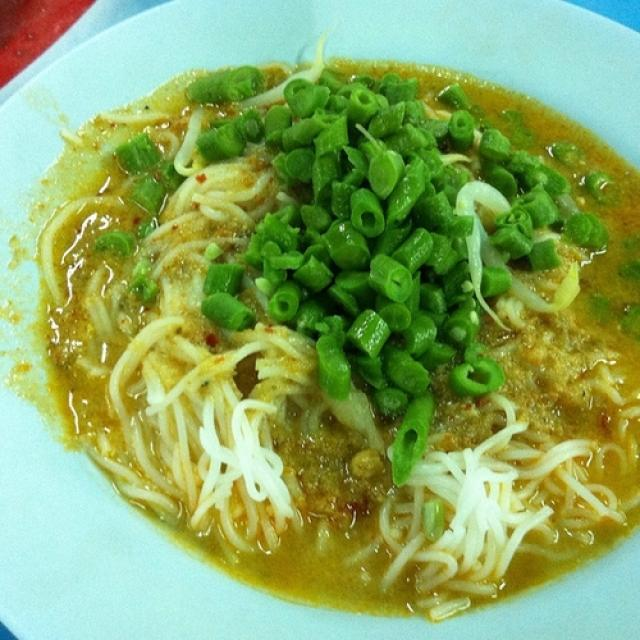面条主食: (9, 13, 631, 626)
